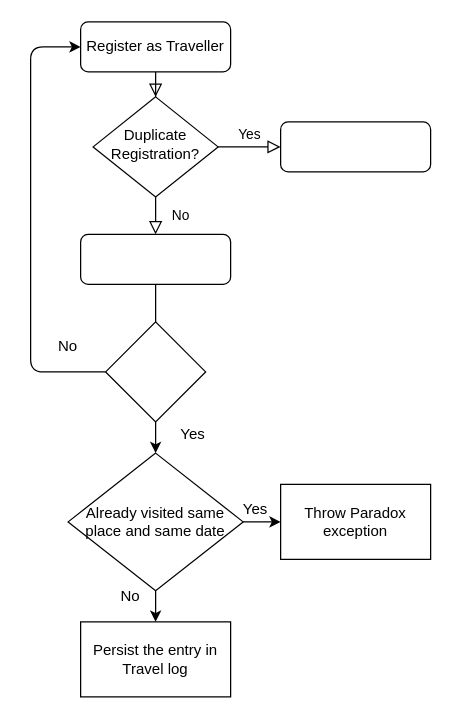
Some shapes in this 453 by 719 pixel diagram are drawn without their labels. Each missing label, with the centre of its shape:
"Do Travel" goes at (x=155, y=258).
"Registered Traveller" goes at (x=155, y=371).
"Throw Duplicate Data exception" goes at (x=355, y=146).
